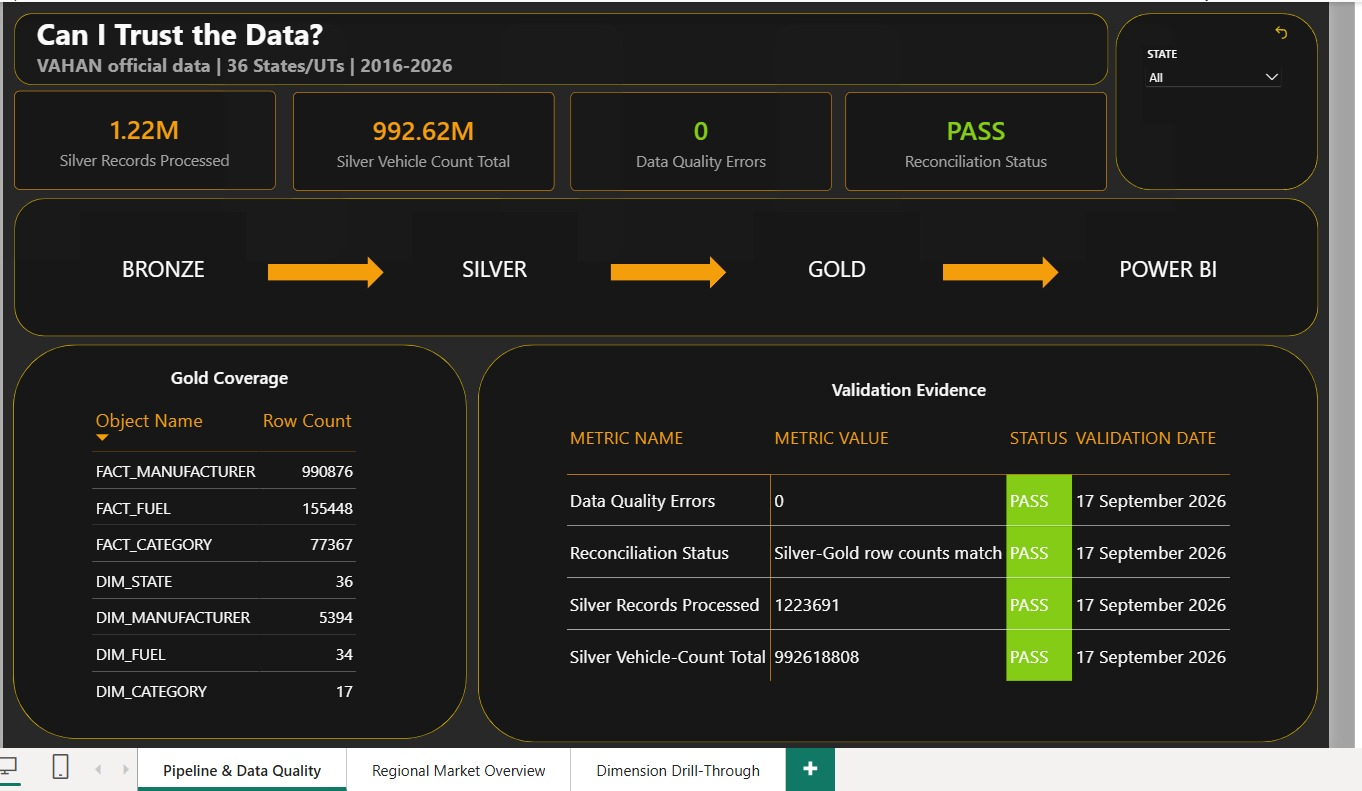

What the dashboard file says about the page in this screenshot:
{"tool":"powerbi","page":{"name":"Pipeline & Data Quality","canvas":[1920,1080],"ordinal":0},"visuals":[{"type":"shape","box":[16,16,1584,104],"z":0},{"type":"shape","box":[1611,16,293,256],"z":1000},{"type":"shape","box":[688,496,1216,576],"z":2000},{"type":"shape","box":[16,285,1888,200],"z":3000},{"type":"shape","box":[14,496,657,571],"z":4000},{"type":"card","fields":{"Values":["DAX_Measures.Silver Records Processed"]},"box":[16,128,378,143],"z":5000},{"type":"card","fields":{"Values":["DAX_Measures.Data Quality Errors"]},"box":[822,131,378,143],"z":6000},{"type":"card","fields":{"Values":["DAX_Measures.Silver Vehicle Count Total"]},"box":[420,131,378,143],"z":7000},{"type":"card","fields":{"Values":["DAX_Measures.Reconciliation Status"]},"box":[1219,130,378,143],"z":8000},{"type":"textbox","box":[448,0,336,144],"z":9000},{"type":"textbox","box":[48,16,1120,96],"z":10000},{"type":"slicer","title":"STATE","fields":{"Values":["DIM_STATE.STATE"]},"box":[1648,64,208,112],"z":11000},{"type":"shape","box":[112,304,240,160],"z":12000},{"type":"shape","box":[1568,304,240,160],"z":13000},{"type":"shape","box":[592,304,240,160],"z":14000},{"type":"shape","box":[1088,304,240,160],"z":15000},{"type":"tableEx","title":"Gold Coverage","fields":{"Values":["Gold Coverage.Object Name","DAX_Measures.Gold Coverage Row Count"]},"box":[112,512,432,528],"z":16000},{"type":"pivotTable","title":"Validation Evidence","fields":{"Rows":["PIPELINE_VALIDATION_SUMMARY.METRIC_NAME"],"Values":["Min(PIPELINE_VALIDATION_SUMMARY.METRIC_VALUE)","Min(PIPELINE_VALIDATION_SUMMARY.STATUS)","Min(PIPELINE_VALIDATION_SUMMARY.VALIDATION_DATE)"]},"box":[800,528,1024,480],"z":17000},{"type":"shape","box":[384,368,168,48],"z":18000},{"type":"shape","box":[880,368,168,48],"z":19000},{"type":"shape","box":[1360,368,168,48],"z":20000},{"type":"actionButton","box":[1800,24,100,40],"z":21000}]}

Visuals, with their boxes on the page's 1920x1080 design canvas (x1, y1, x2, y2). These are canvas units, not pixel positions in the 1362x791 screenshot, which may show the page scaled, cropped or inside an application window:
shape: <bbox>16, 16, 1600, 120</bbox>
shape: <bbox>1611, 16, 1904, 272</bbox>
shape: <bbox>688, 496, 1904, 1072</bbox>
shape: <bbox>16, 285, 1904, 485</bbox>
shape: <bbox>14, 496, 671, 1067</bbox>
card - DAX_Measures.Silver Records Processed: <bbox>16, 128, 394, 271</bbox>
card - DAX_Measures.Data Quality Errors: <bbox>822, 131, 1200, 274</bbox>
card - DAX_Measures.Silver Vehicle Count Total: <bbox>420, 131, 798, 274</bbox>
card - DAX_Measures.Reconciliation Status: <bbox>1219, 130, 1597, 273</bbox>
textbox: <bbox>448, 0, 784, 144</bbox>
textbox: <bbox>48, 16, 1168, 112</bbox>
"STATE" slicer: <bbox>1648, 64, 1856, 176</bbox>
shape: <bbox>112, 304, 352, 464</bbox>
shape: <bbox>1568, 304, 1808, 464</bbox>
shape: <bbox>592, 304, 832, 464</bbox>
shape: <bbox>1088, 304, 1328, 464</bbox>
"Gold Coverage" tableEx: <bbox>112, 512, 544, 1040</bbox>
"Validation Evidence" pivotTable: <bbox>800, 528, 1824, 1008</bbox>
shape: <bbox>384, 368, 552, 416</bbox>
shape: <bbox>880, 368, 1048, 416</bbox>
shape: <bbox>1360, 368, 1528, 416</bbox>
actionButton: <bbox>1800, 24, 1900, 64</bbox>
